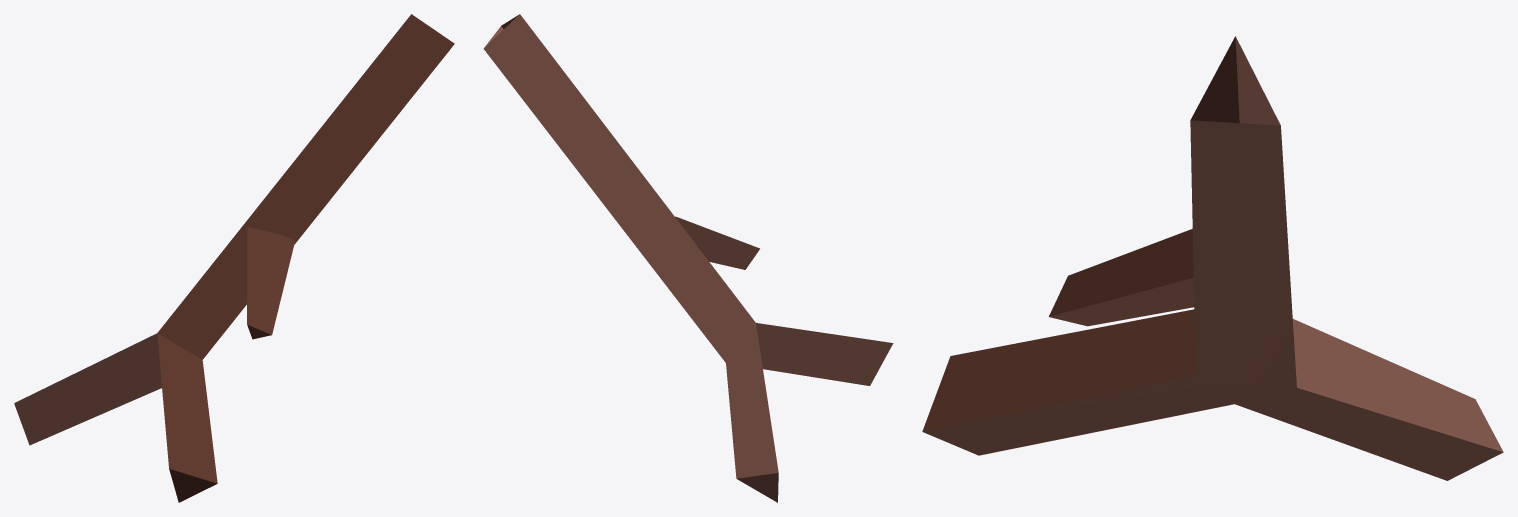
Rendered from HolidaySnowManRightArm.fbx.
3 views of the same model, side by side, from view 1: azimuth 30°, elevation 25°; view 2: azimuth 150°, elevation 25°; view 3: azimuth 270°, elevation 25° (orthographic). The views are drawn at different scales.
Parts seen in each view (by area): view 1: HolidaySnowManRightArm; view 2: HolidaySnowManRightArm; view 3: HolidaySnowManRightArm.
Part boxes in pixels (<box>): HolidaySnowManRightArm: <box>14,14,454,502</box>; HolidaySnowManRightArm: <box>483,14,893,502</box>; HolidaySnowManRightArm: <box>922,36,1503,480</box>.
Bounding box in the file's own units: 23.36 × 23.95 × 16.86.
